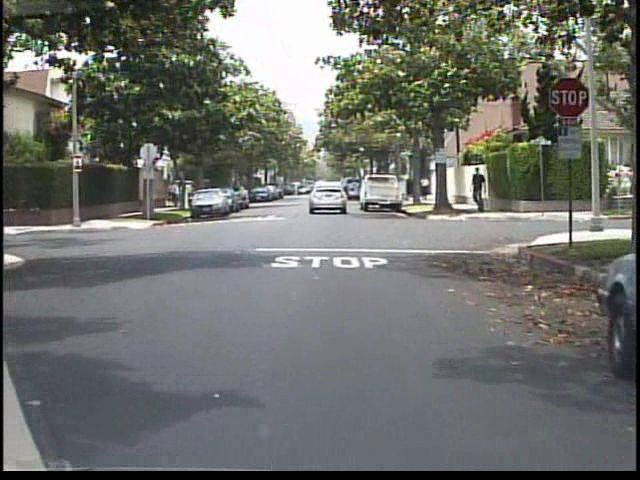person: (467, 163, 493, 218), (416, 172, 433, 205), (166, 179, 183, 208)
